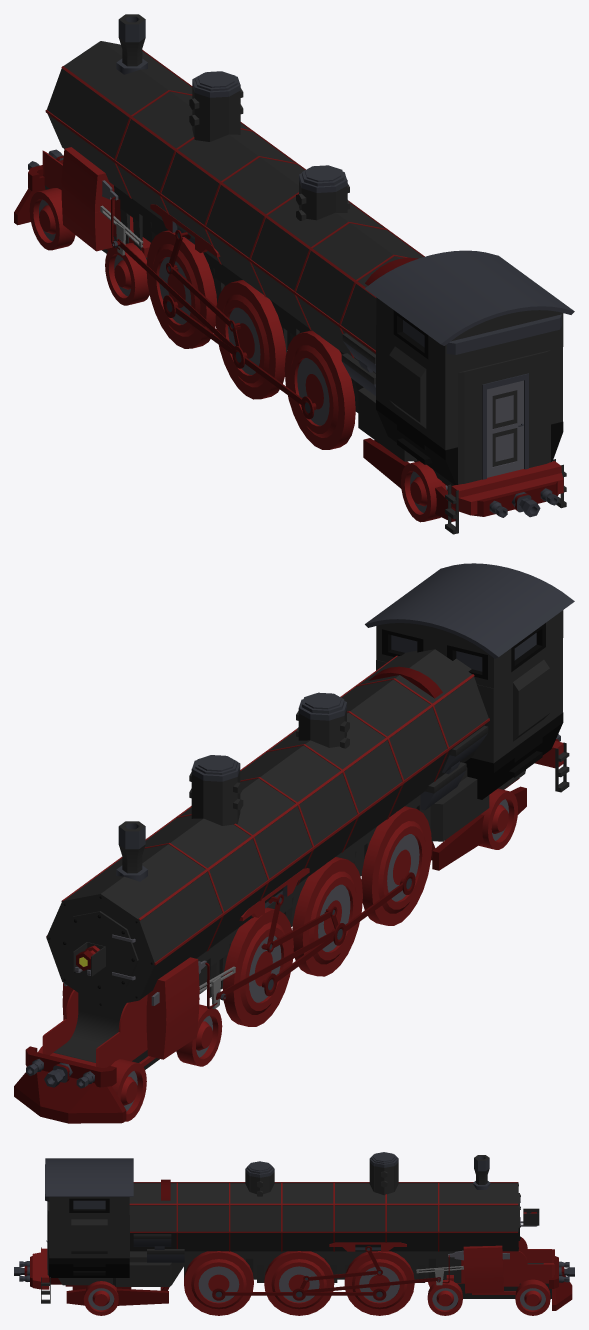
The model's file is SteamTtrain.glb.
3 renders of one model, top to bottom at view 1: azimuth 30°, elevation 25°; view 2: azimuth 150°, elevation 25°; view 3: azimuth 270°, elevation 25°, orthographic. The views are drawn at different scales.
Parts seen in each view (by area): view 1: mergedBlocks(Clone); view 2: mergedBlocks(Clone); view 3: mergedBlocks(Clone).
Boxes of the visible parts, x1=… form: mergedBlocks(Clone): x1=14, y1=14, x2=574, y2=534; mergedBlocks(Clone): x1=14, y1=563, x2=574, y2=1123; mergedBlocks(Clone): x1=14, y1=1152, x2=574, y2=1315.
Size of the model in its own units: 1.23 by 2.22 by 7.68.
